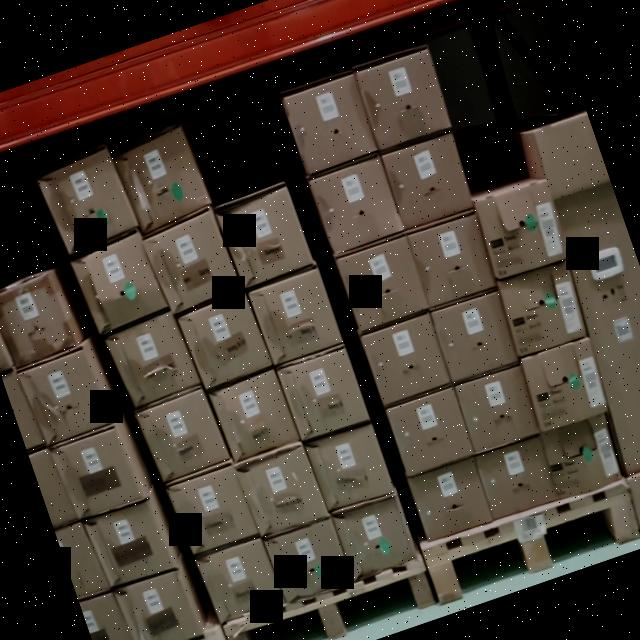box: (533, 112, 640, 475), (37, 144, 138, 253), (215, 184, 313, 287), (70, 230, 168, 333), (355, 49, 453, 150), (144, 209, 238, 311), (308, 156, 405, 254), (17, 347, 113, 446), (283, 75, 378, 174), (248, 268, 344, 364), (105, 310, 200, 407), (475, 179, 567, 278), (335, 234, 429, 330), (178, 292, 272, 388), (49, 425, 145, 519), (381, 134, 474, 230), (115, 131, 208, 227), (165, 460, 258, 555), (135, 389, 230, 482), (277, 346, 369, 441), (497, 259, 586, 357), (408, 212, 498, 308), (360, 313, 451, 405), (83, 497, 177, 586), (208, 369, 298, 461), (235, 446, 328, 535), (306, 423, 395, 512), (521, 339, 607, 431), (432, 292, 518, 382), (386, 388, 474, 475), (196, 540, 284, 624), (455, 367, 541, 451), (0, 273, 76, 368), (264, 521, 353, 602), (333, 495, 417, 579), (408, 458, 492, 540), (476, 436, 558, 520), (541, 413, 622, 498), (114, 569, 204, 640), (54, 518, 110, 597), (27, 445, 78, 526), (0, 368, 46, 451), (78, 589, 133, 640), (0, 341, 12, 370)
